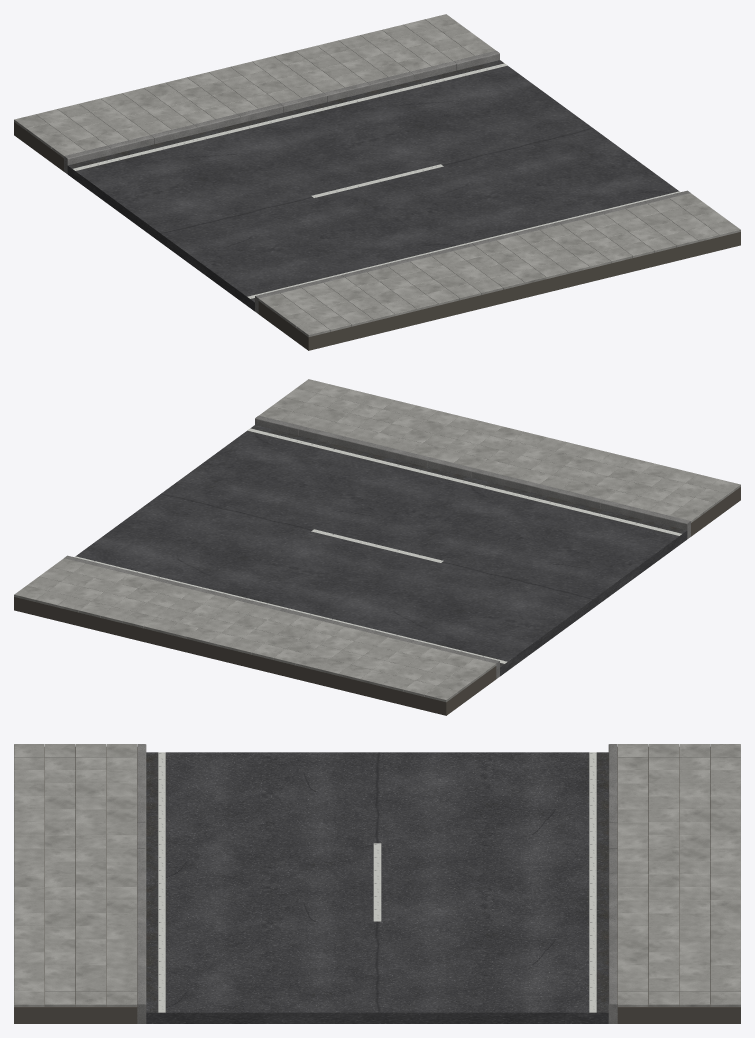
File: road-segment.glb
The picture shows the model from 3 angles, top to bottom: view 1: azimuth 30°, elevation 25°; view 2: azimuth 150°, elevation 25°; view 3: azimuth 270°, elevation 25°; orthographic projection. The views are drawn at different scales.
Visible parts, largest first — view 1: road-segment_asphalt, road-segment_paving_slabs, road-segment_bedding, road-segment_curb, road-segment_road_marking; view 2: road-segment_asphalt, road-segment_paving_slabs, road-segment_bedding, road-segment_curb, road-segment_road_marking; view 3: road-segment_asphalt, road-segment_paving_slabs, road-segment_bedding, road-segment_curb, road-segment_road_marking.
Boxes of the visible parts, x1,y1,x2,y2 form: road-segment_asphalt: (67, 60, 678, 311); road-segment_paving_slabs: (14, 14, 740, 337); road-segment_bedding: (14, 122, 740, 350); road-segment_curb: (64, 50, 690, 313); road-segment_road_marking: (73, 63, 680, 298); road-segment_asphalt: (76, 425, 687, 676); road-segment_paving_slabs: (14, 379, 740, 702); road-segment_bedding: (14, 487, 740, 715); road-segment_curb: (64, 415, 690, 678); road-segment_road_marking: (74, 428, 681, 663); road-segment_asphalt: (146, 752, 608, 1023); road-segment_paving_slabs: (14, 744, 740, 1006); road-segment_bedding: (14, 747, 740, 1023); road-segment_curb: (137, 744, 617, 1023); road-segment_road_marking: (158, 752, 596, 1012).
Bounding box in the file's own units: 10 × 0.35 × 11.8.
5 materials, 4 textured.
